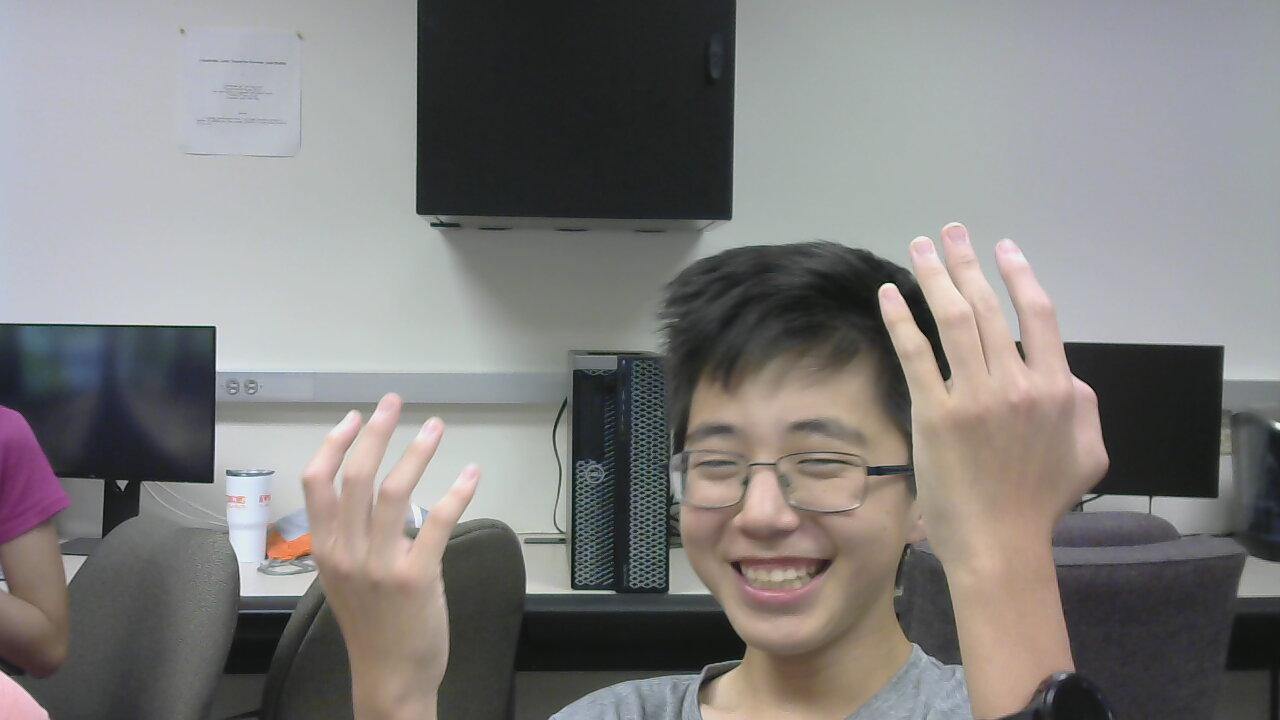hands: (868, 201, 1108, 531), (295, 389, 486, 699)
